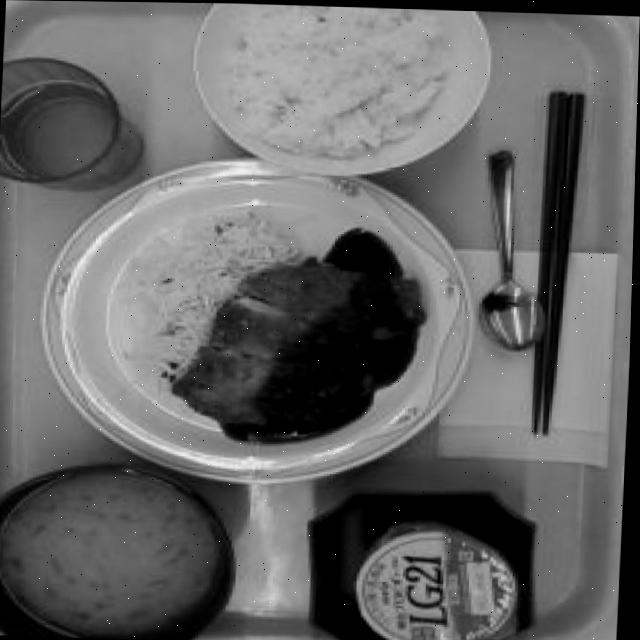米饭主食: (183, 2, 490, 177)
蔬菜料理: (134, 215, 308, 382)
